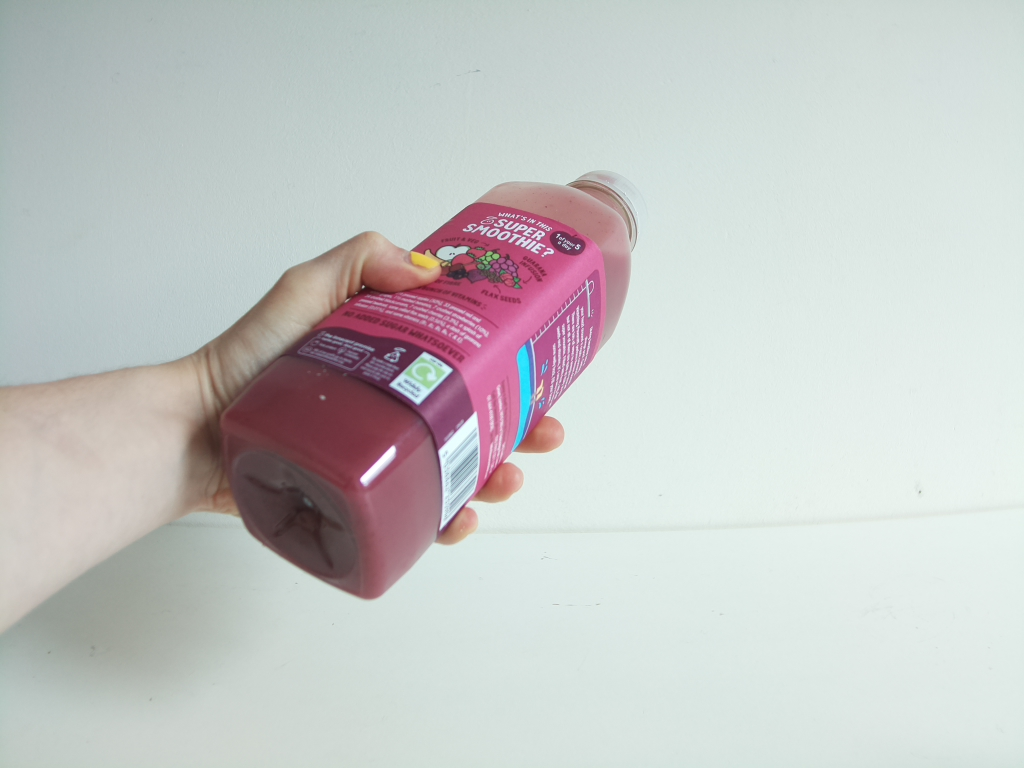juice: (208, 170, 647, 608)
